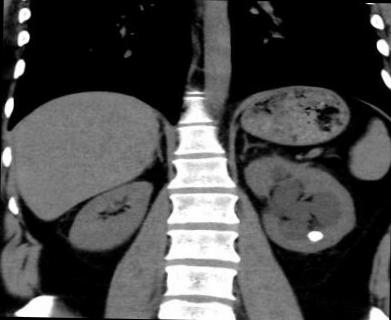Tas_Var: (306, 228, 324, 244)
